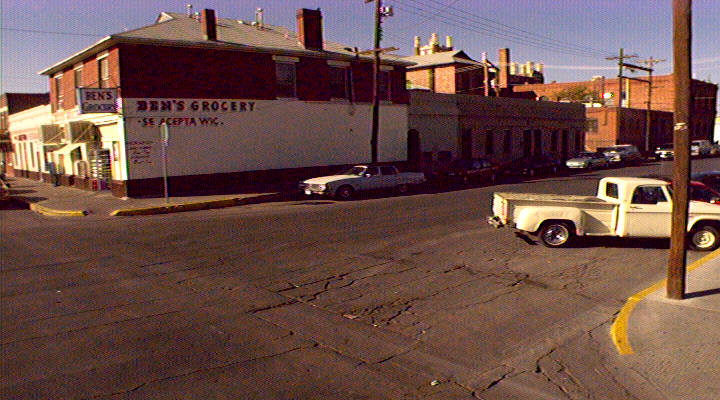Ramp: (598, 317, 718, 400), (76, 196, 125, 223)
